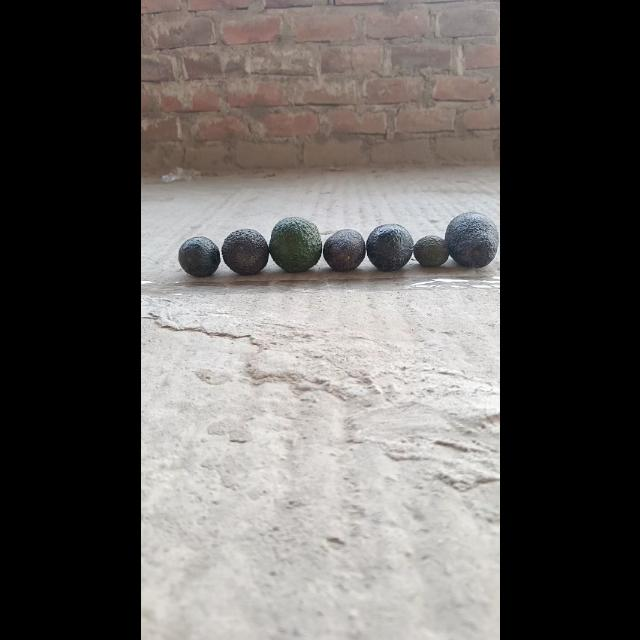Primera: (444, 210, 498, 268), (267, 216, 321, 272)
Segunda: (220, 228, 268, 276), (365, 224, 413, 272), (321, 228, 365, 272), (176, 236, 220, 276)
Tercera: (412, 235, 448, 267)
